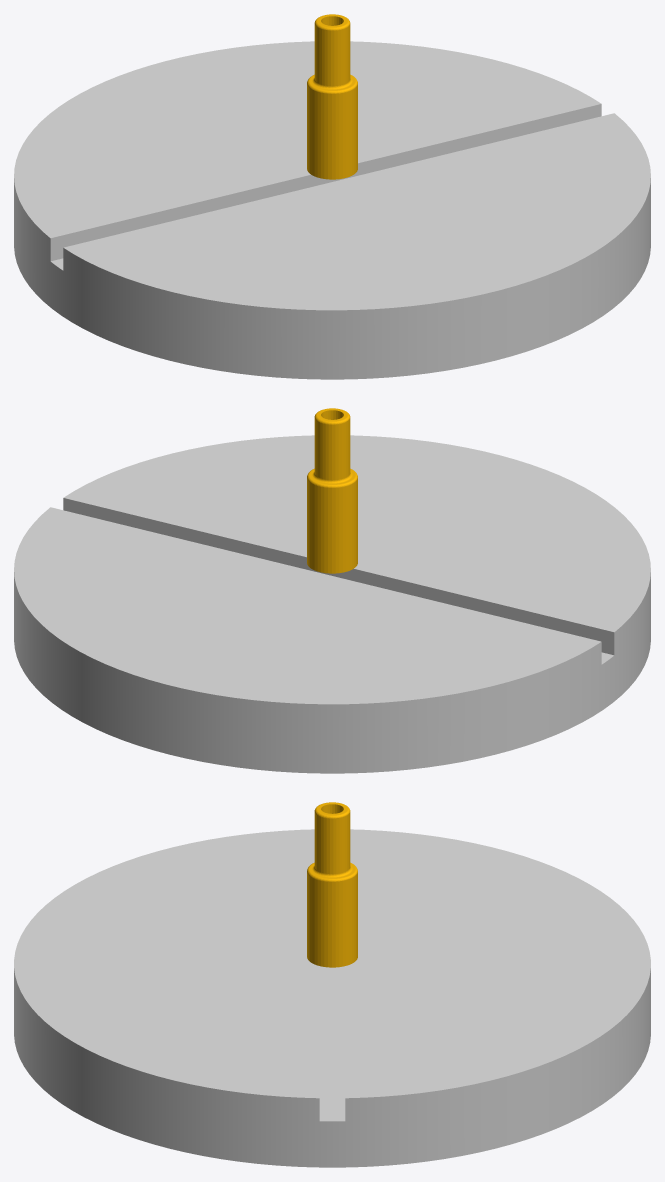
Rendered from Spinner.glb.
3 views of the same model, one above another, from view 1: azimuth 30°, elevation 25°; view 2: azimuth 150°, elevation 25°; view 3: azimuth 270°, elevation 25° (orthographic).
Parts seen in each view (by area): view 1: node5, node2; view 2: node5, node2; view 3: node5, node2.
Boxes of the visible parts, x1,y1,x2,y2 form: node5: (14, 41, 650, 379); node2: (307, 14, 357, 179); node5: (14, 435, 650, 773); node2: (307, 408, 357, 573); node5: (14, 829, 650, 1167); node2: (307, 802, 357, 967).
Bounding box in the file's own units: 0.25 × 0.097 × 0.25.
